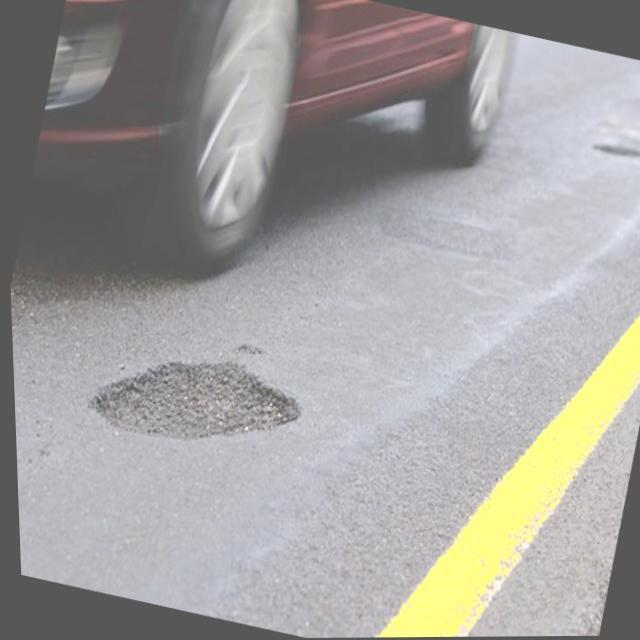Pothole: (87, 358, 312, 444)
